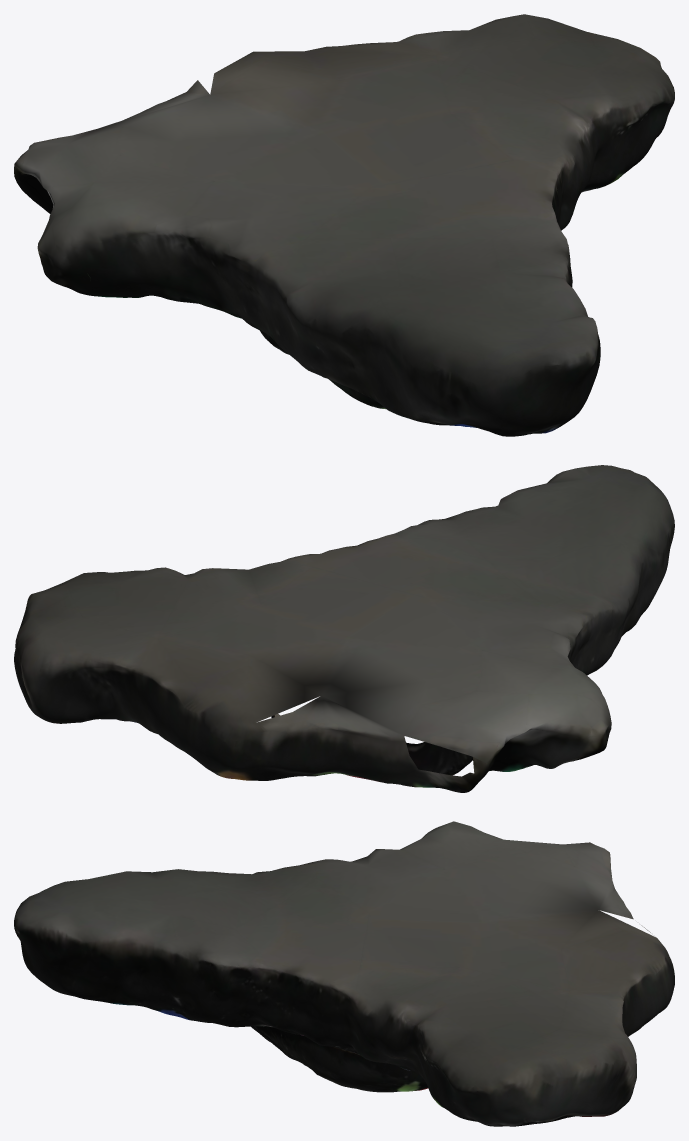
The picture shows the model from 3 angles, top to bottom: view 1: azimuth 30°, elevation 25°; view 2: azimuth 150°, elevation 25°; view 3: azimuth 270°, elevation 25°; orthographic projection. The views are drawn at different scales.
Bounding box in the file's own units: 0.5266 × 0.1372 × 0.5752.
1 material, 1 textured.
